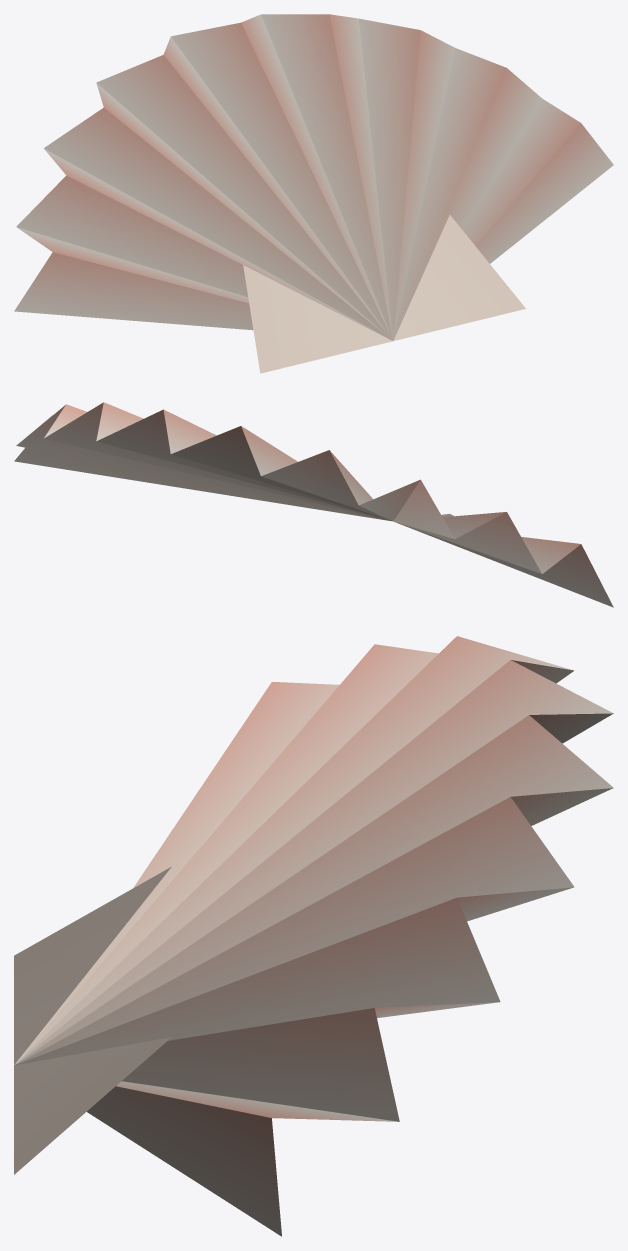
Rendered from east_scallop.glb.
3 renders of one model, top to bottom at view 1: azimuth 30°, elevation 25°; view 2: azimuth 150°, elevation 25°; view 3: azimuth 270°, elevation 25°, orthographic. The views are drawn at different scales.
Parts seen in each view (by area): view 1: east_scallop; view 2: east_scallop; view 3: east_scallop.
Part boxes in pixels (box(x1,y1,x2,y2)): east_scallop: box(14, 14, 613, 373); east_scallop: box(14, 402, 613, 607); east_scallop: box(14, 636, 613, 1236).
Bounding box in the file's own units: 0.4063 × 0.134 × 0.208.
